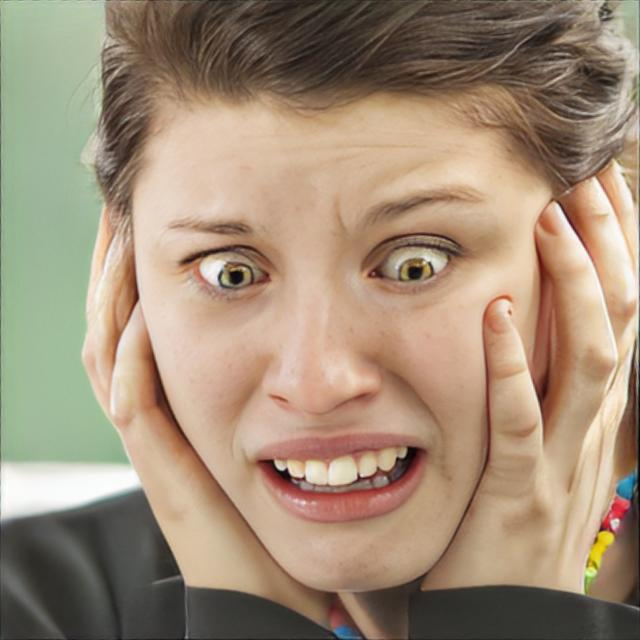fear: (130, 71, 560, 592)
